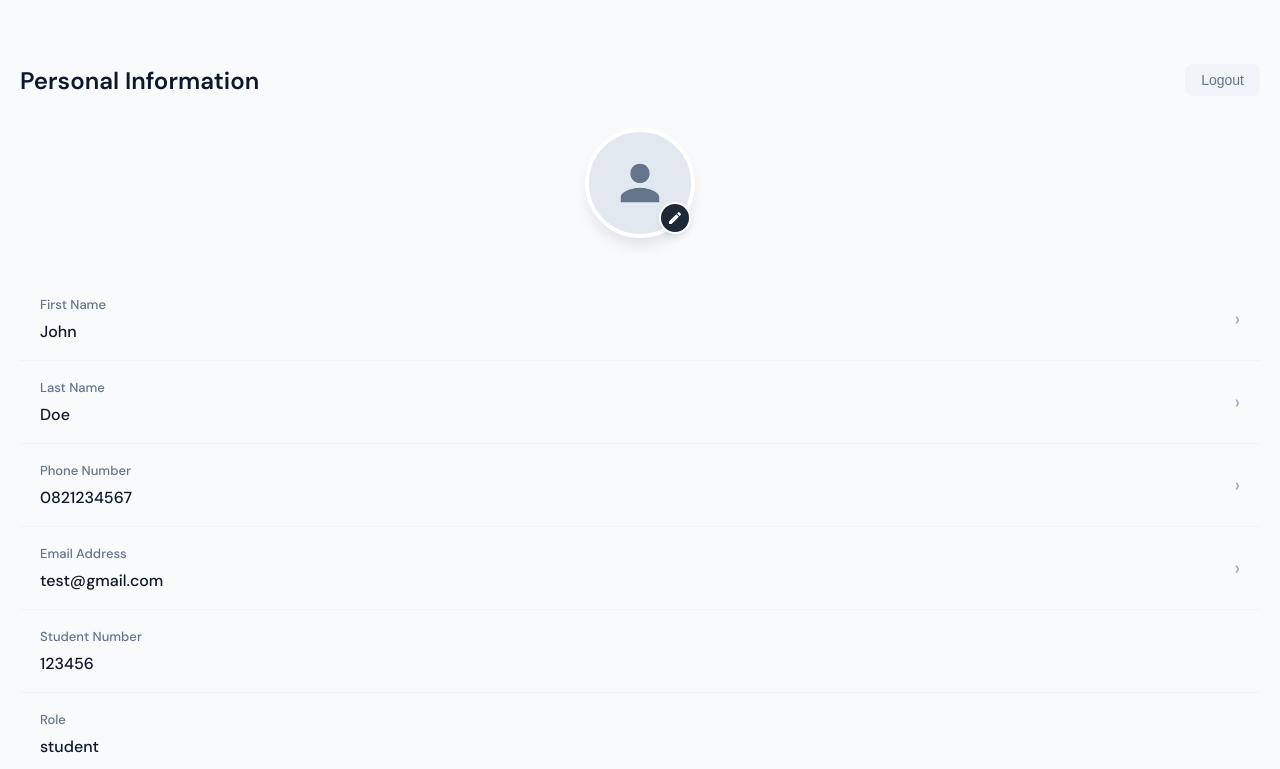
Test: Profile Component › Edit mode › shows Saving... while save is in progress
Click the text "John" at (58, 332), box [40,321,77,342]
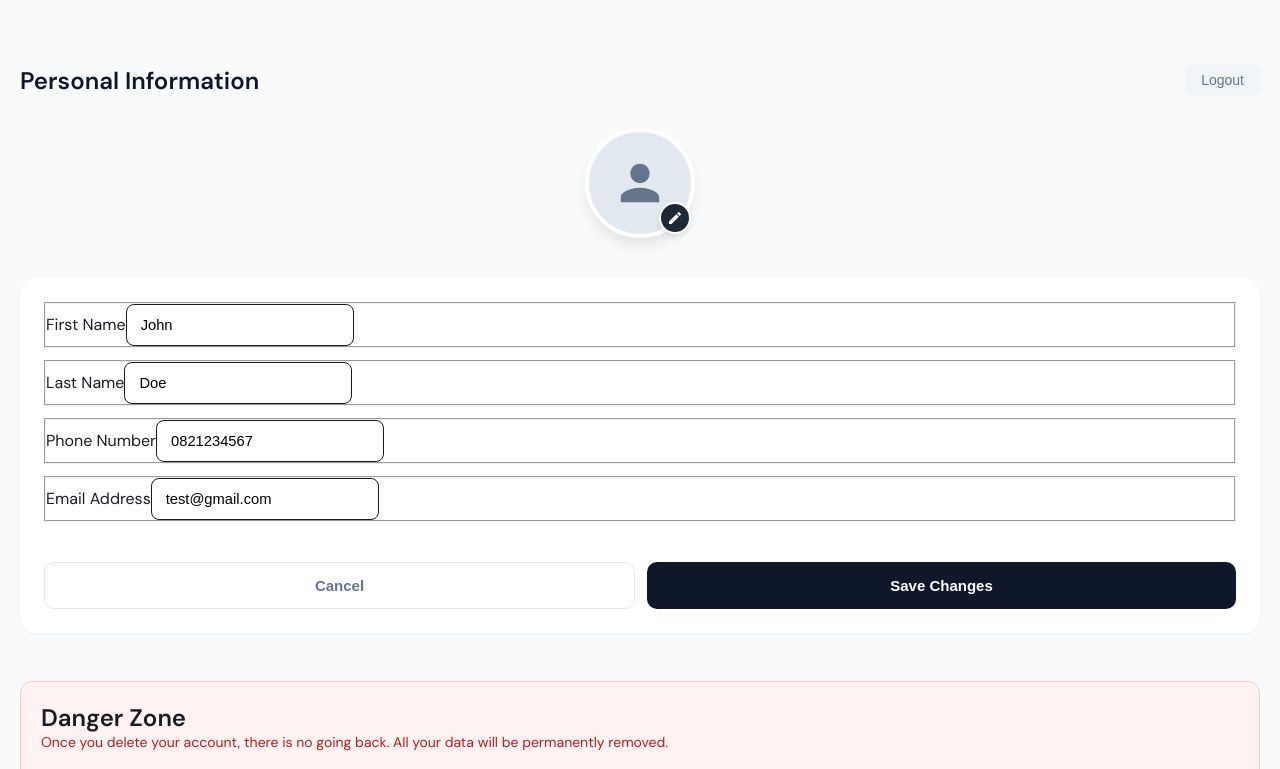
Click the button "Save Changes" at (942, 586), box [647,562,1236,609]
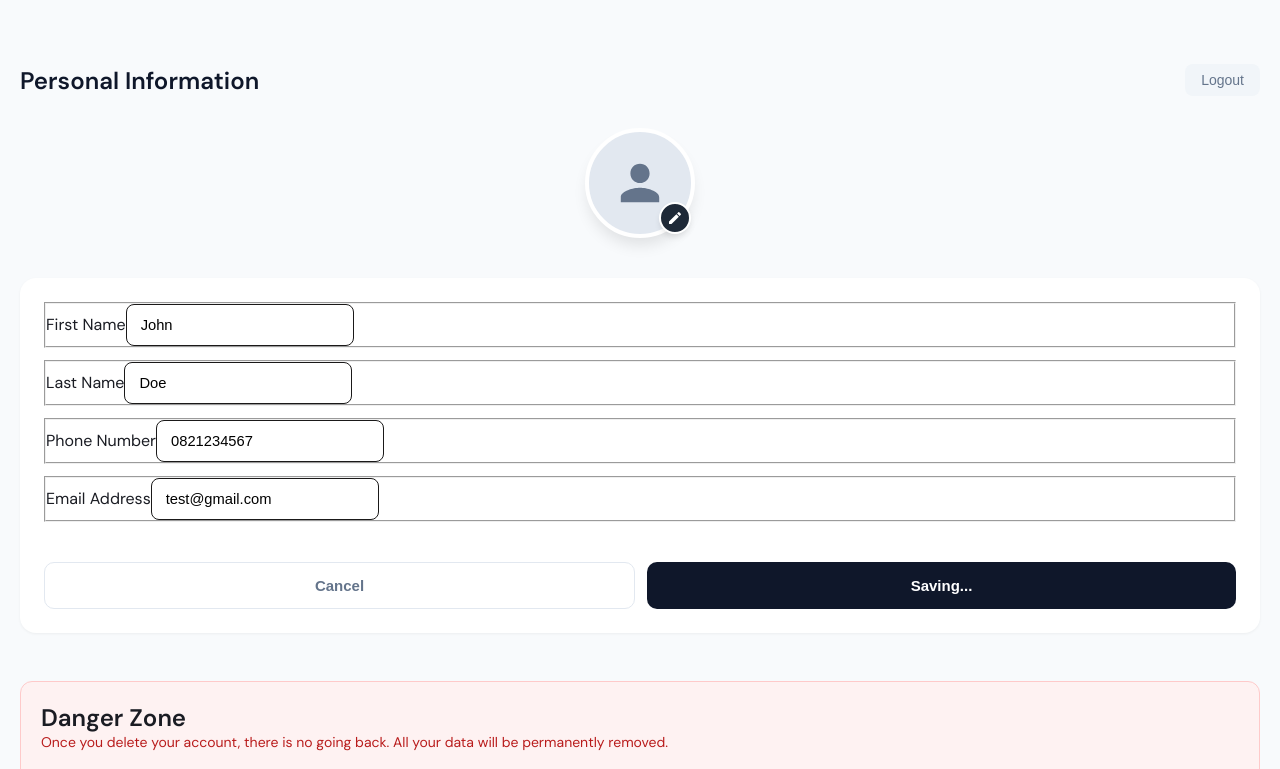
Check: the button "Saving..." is shown, box [647,562,1236,609]
